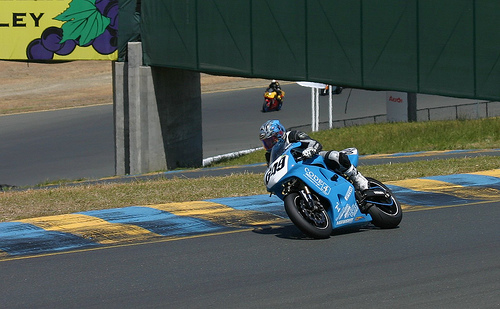helmet: (257, 126, 286, 145)
